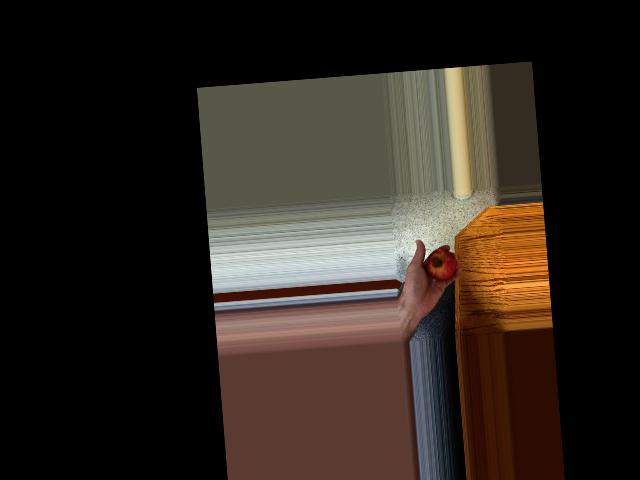apple: (420, 243, 461, 294)
